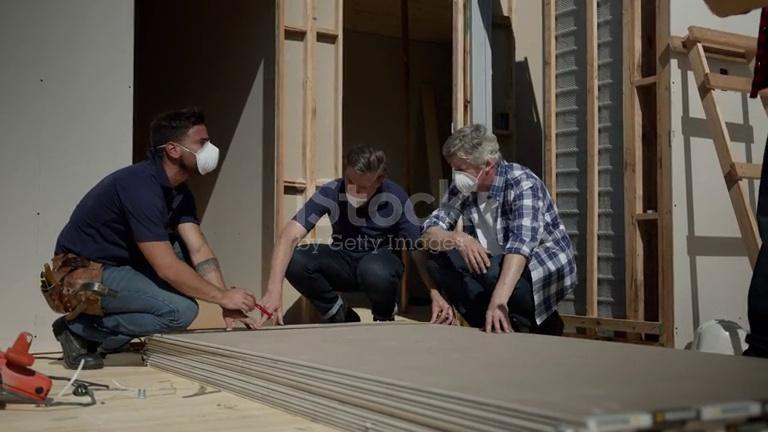mask: (191, 143, 221, 176), (451, 170, 479, 196), (345, 185, 371, 208)
person: (52, 109, 264, 371), (412, 124, 578, 336), (262, 146, 453, 327)
